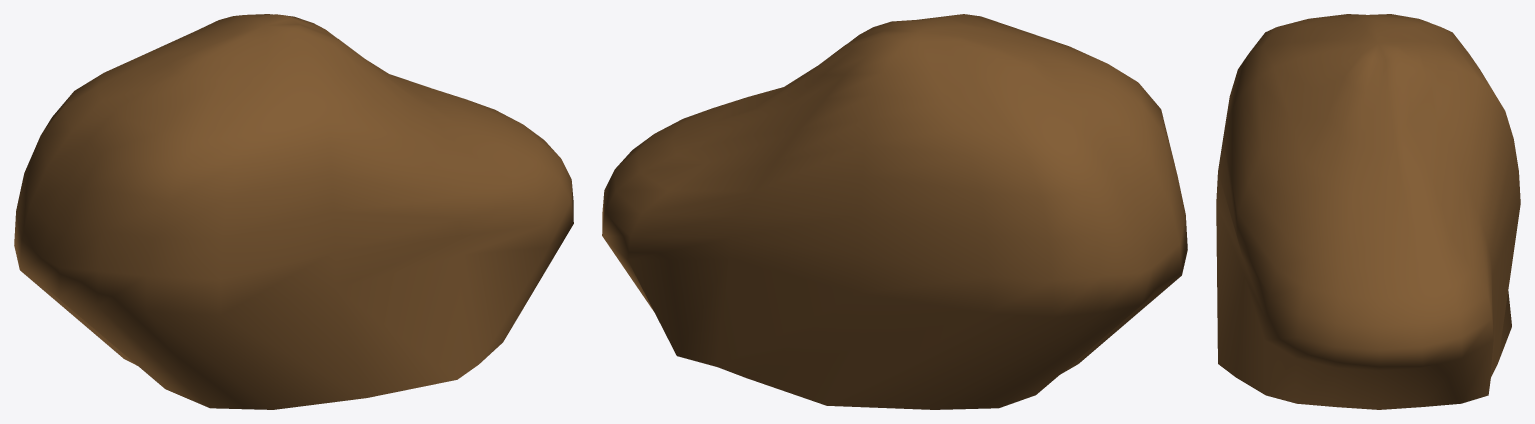
Rendered from Rock3Finished.fbx.
3 views of the same model, side by side, from view 1: azimuth 30°, elevation 25°; view 2: azimuth 150°, elevation 25°; view 3: azimuth 270°, elevation 25° (orthographic). The views are drawn at different scales.
Visible parts, largest first — view 1: MRock1POne:pSphere3; view 2: MRock1POne:pSphere3; view 3: MRock1POne:pSphere3.
Part boxes in pixels (<box>): MRock1POne:pSphere3: <box>14,14,573,409</box>; MRock1POne:pSphere3: <box>602,14,1187,409</box>; MRock1POne:pSphere3: <box>1216,14,1520,409</box>.
Bounding box in the file's own units: 188 × 109 × 108.
